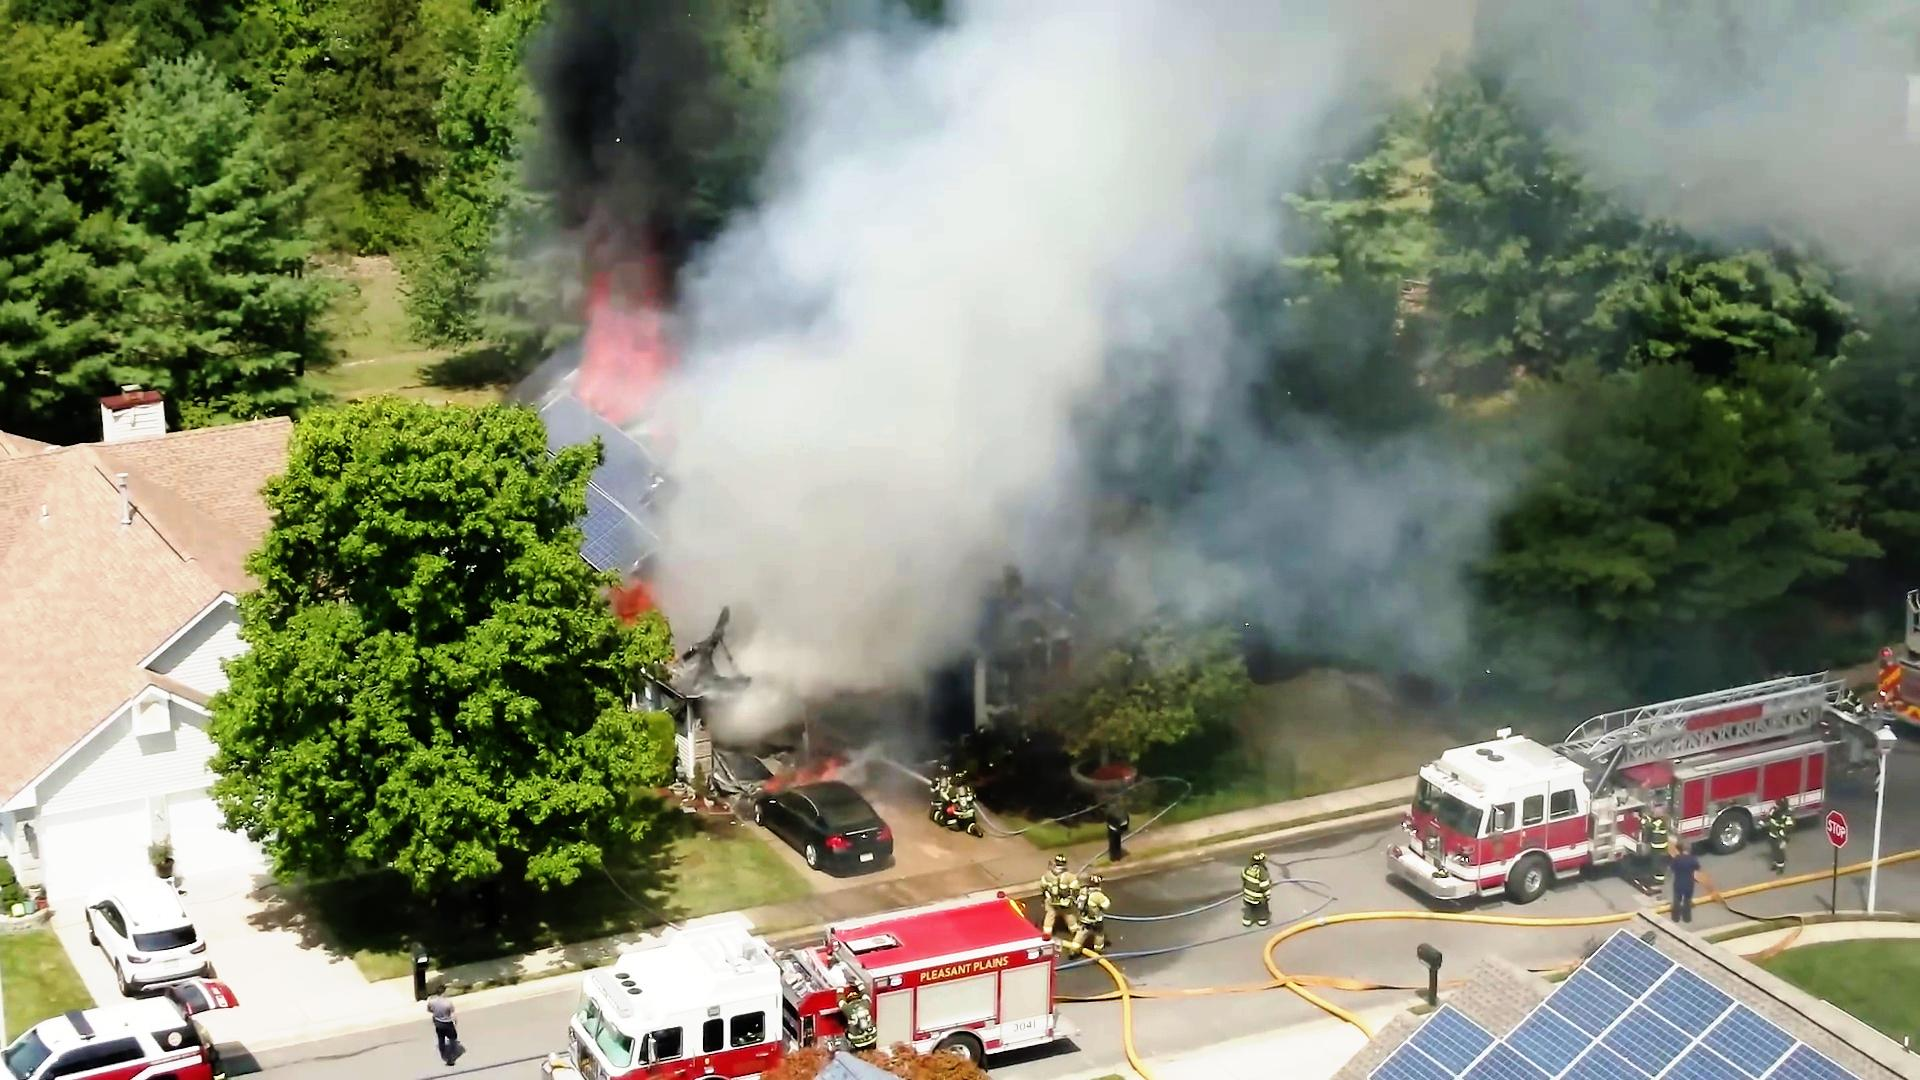fire: (578, 281, 673, 415)
smoke: (691, 281, 1029, 688), (840, 33, 1141, 390), (553, 0, 711, 243)
